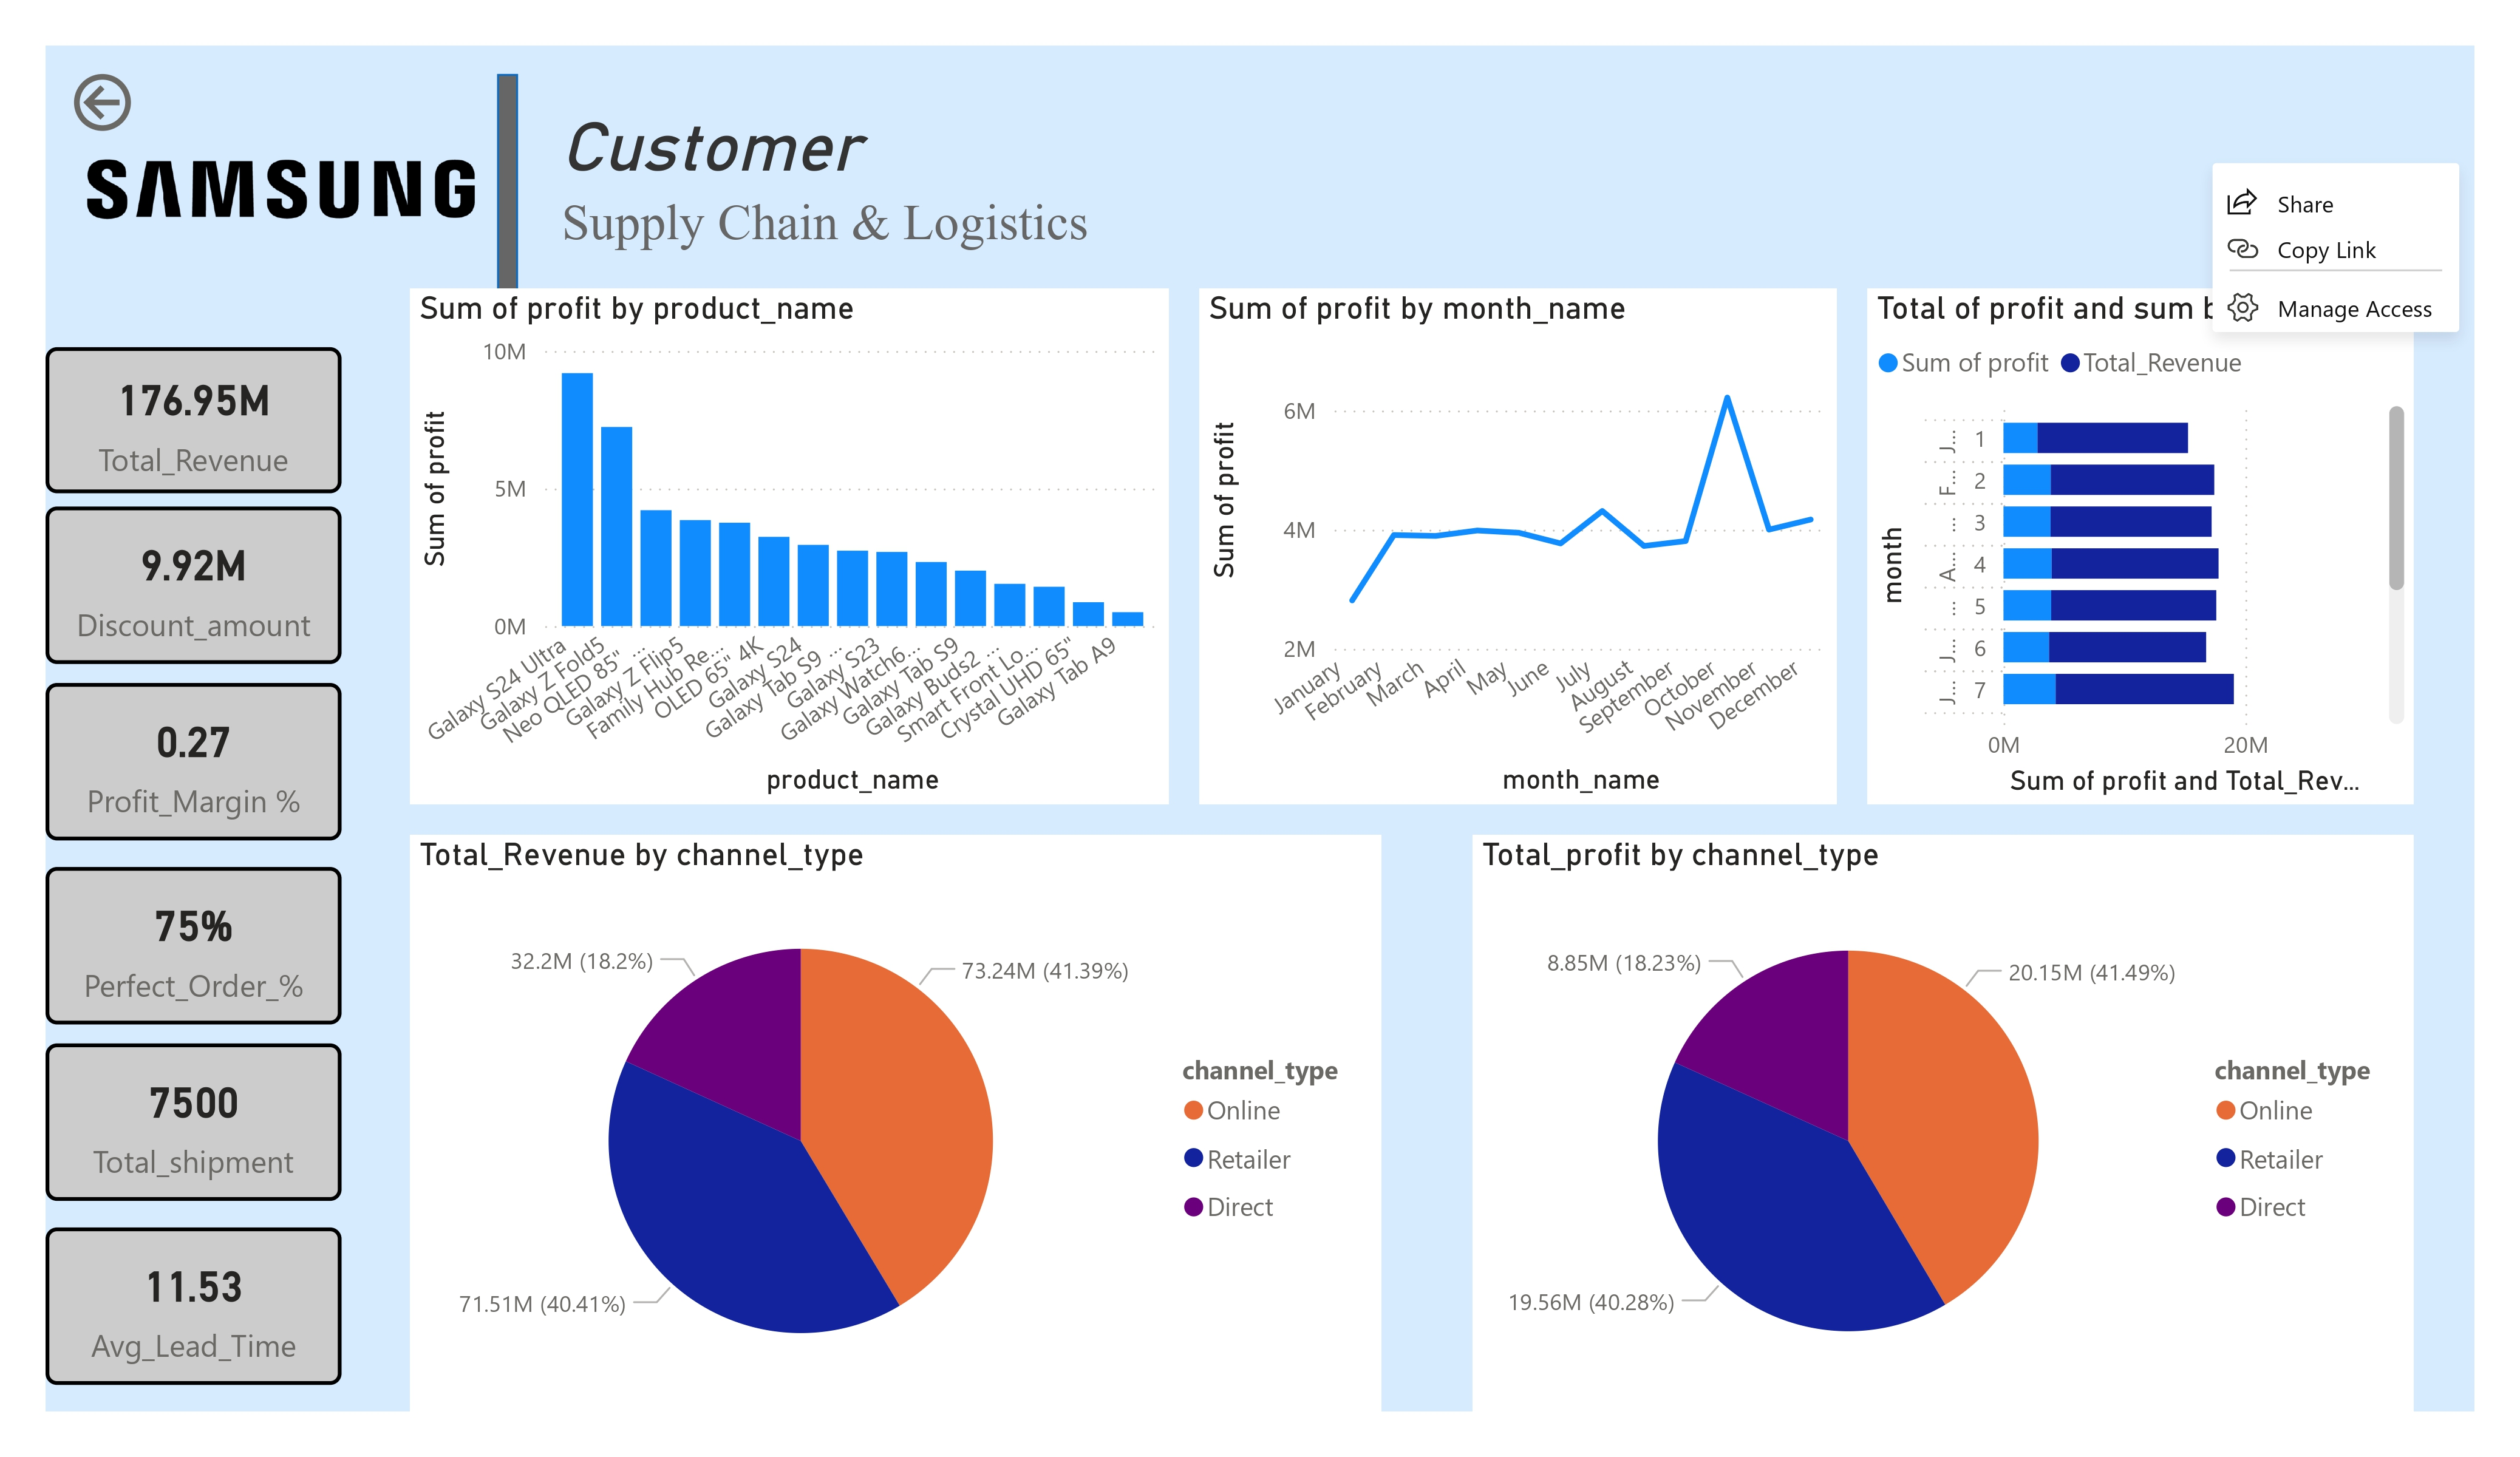

Layout of this report page (visuals, bound fields, positions):
{"tool":"powerbi","page":{"name":"Customer","canvas":[1280,720],"ordinal":5},"visuals":[{"type":"shape","title":"Customer","box":[272,32,944,128],"z":0},{"type":"image","box":[0,0,237.5,148.8],"z":1000},{"type":"shape","box":[237.5,15,11.2,131.2],"z":2000},{"type":"card","fields":{"Values":["MEASURES_TABLE.Perfect_Order_%"]},"box":[0,432.9,155.7,82.9],"z":3000},{"type":"card","fields":{"Values":["Sum(fact_sales.discount_amount)"]},"box":[0,242.9,155.7,82.9],"z":4000},{"type":"card","fields":{"Values":["MEASURES_TABLE.Total_shipment"]},"box":[0,525.7,155.7,82.9],"z":5000},{"type":"card","fields":{"Values":["MEASURES_TABLE.Avg_Lead_Time"]},"box":[0,622.9,155.7,82.9],"z":6000},{"type":"card","fields":{"Values":["MEASURES_TABLE.Profit_Margin %"]},"box":[0,335.7,155.7,82.9],"z":7000},{"type":"card","fields":{"Values":["MEASURES_TABLE.Total_Revenue"]},"box":[0,158.6,155.7,77.1],"z":8000},{"type":"pieChart","fields":{"Category":["dim_customer.channel_type"],"Y":["MEASURES_TABLE.Total_Revenue"]},"box":[192,416,512,304],"z":9000},{"type":"pieChart","title":"Total_profit by channel_type","fields":{"Category":["dim_customer.channel_type"],"Y":["MEASURES_TABLE.Total_profit"]},"box":[752,416,496,304],"z":10000},{"type":"columnChart","fields":{"Category":["dim_product.product_name"],"Y":["Sum(fact_sales.profit)"]},"box":[192,128,400,272],"z":11000},{"type":"lineChart","fields":{"Category":["dim_date.month_name"],"Y":["Sum(fact_sales.profit)"]},"box":[608,128,336,272],"z":12000},{"type":"barChart","title":"Total of profit and sum by months","fields":{"Category":["dim_date.date.Variation.Date Hierarchy.Month","dim_date.month"],"Y":["Sum(fact_sales.profit)","MEASURES_TABLE.Total_Revenue"]},"box":[960,128,288,272],"z":13000},{"type":"actionButton","box":[10,10,100,40],"z":14000}]}

Visuals, with their boxes on the page's 1280x720 design canvas (x1, y1, x2, y2). These are canvas units, not pixel positions in the 2520x1457 screenshot, which may show the page scaled, cropped or inside an application window:
"Customer" shape: pyautogui.locateOnScreen(272, 32, 1216, 160)
image: pyautogui.locateOnScreen(0, 0, 238, 149)
shape: pyautogui.locateOnScreen(238, 15, 249, 146)
card - MEASURES_TABLE.Perfect_Order_%: pyautogui.locateOnScreen(0, 433, 156, 516)
card - Sum(fact_sales.discount_amount): pyautogui.locateOnScreen(0, 243, 156, 326)
card - MEASURES_TABLE.Total_shipment: pyautogui.locateOnScreen(0, 526, 156, 609)
card - MEASURES_TABLE.Avg_Lead_Time: pyautogui.locateOnScreen(0, 623, 156, 706)
card - MEASURES_TABLE.Profit_Margin %: pyautogui.locateOnScreen(0, 336, 156, 419)
card - MEASURES_TABLE.Total_Revenue: pyautogui.locateOnScreen(0, 159, 156, 236)
pieChart - dim_customer.channel_type x MEASURES_TABLE.Total_Revenue: pyautogui.locateOnScreen(192, 416, 704, 720)
"Total_profit by channel_type" pieChart: pyautogui.locateOnScreen(752, 416, 1248, 720)
columnChart - dim_product.product_name x Sum(fact_sales.profit): pyautogui.locateOnScreen(192, 128, 592, 400)
lineChart - dim_date.month_name x Sum(fact_sales.profit): pyautogui.locateOnScreen(608, 128, 944, 400)
"Total of profit and sum by months" barChart: pyautogui.locateOnScreen(960, 128, 1248, 400)
actionButton: pyautogui.locateOnScreen(10, 10, 110, 50)
